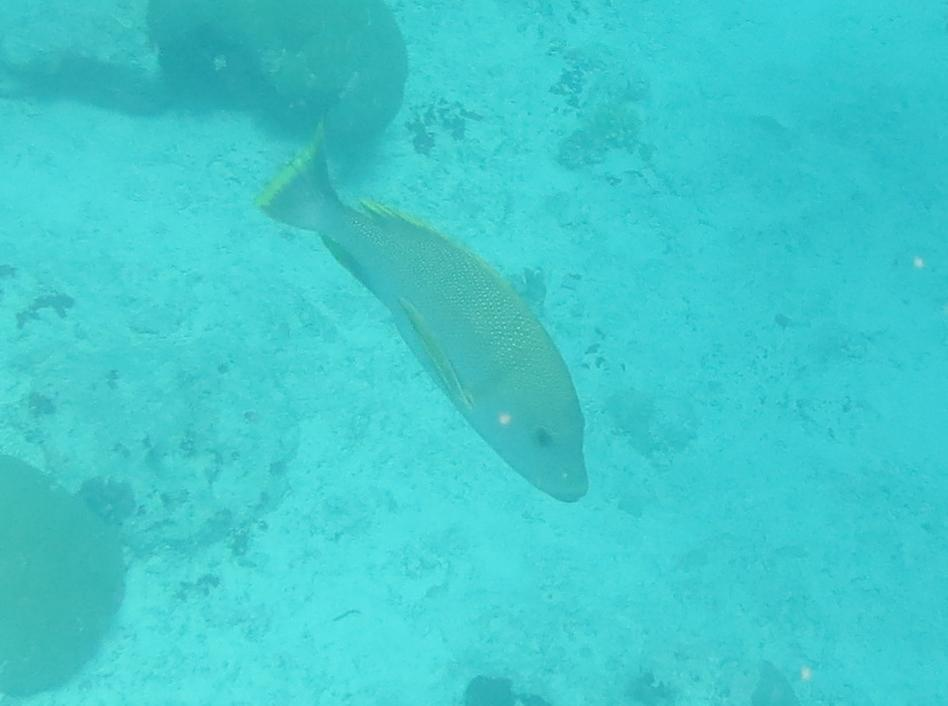Fish: (240, 114, 603, 518)
